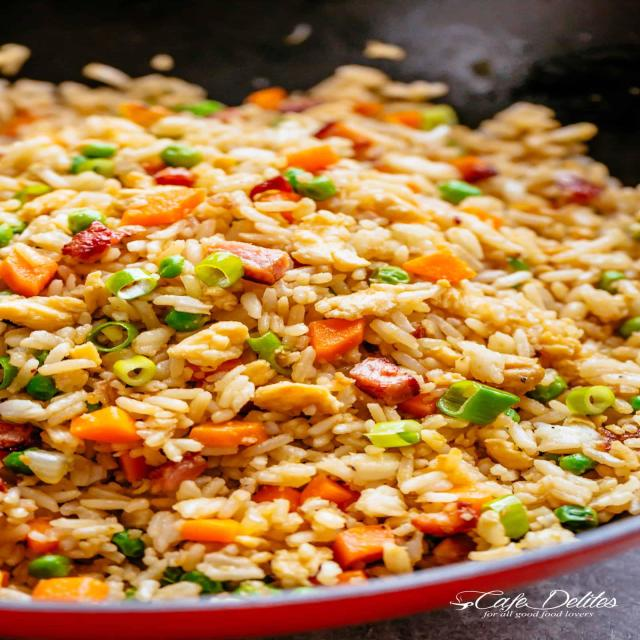Nasi Goreng: (2, 65, 638, 602)
